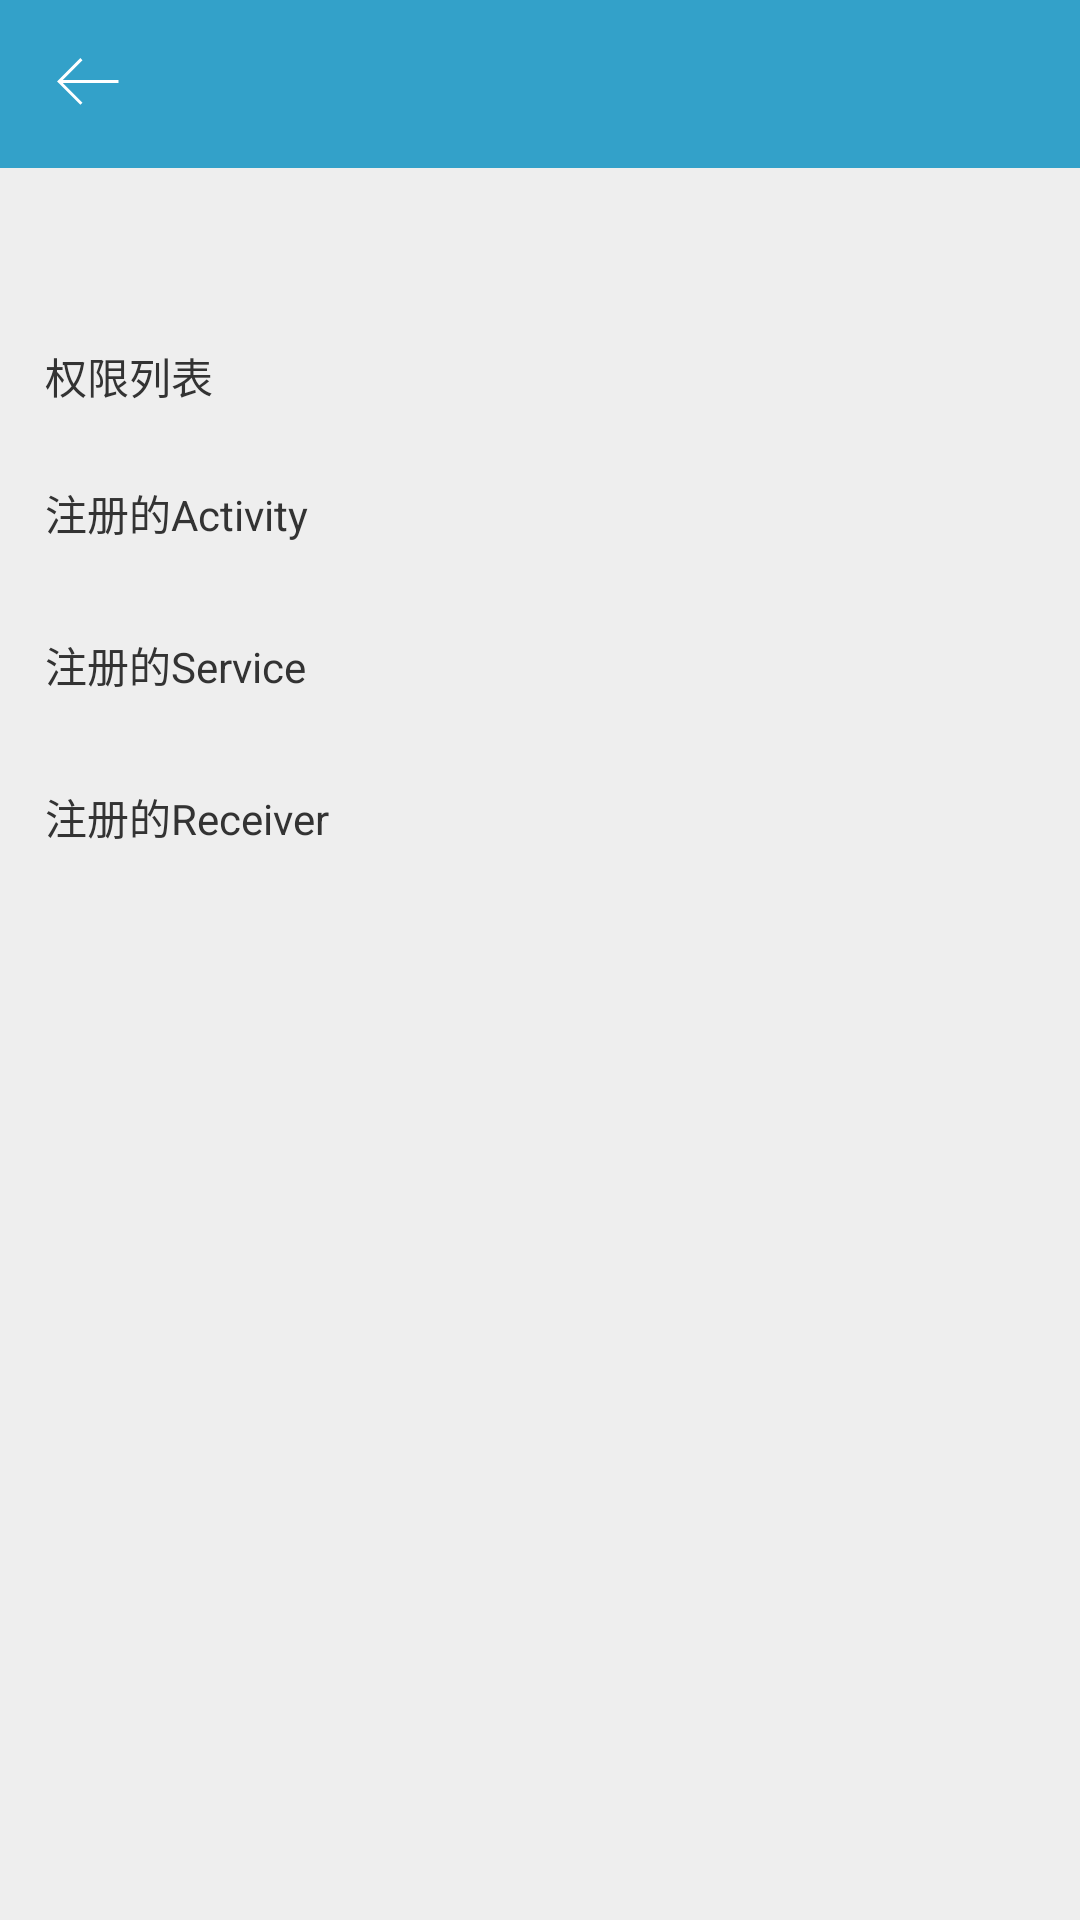

Icon click points for this 1080x1920 phone screenshot, format [x,y]:
back: [88,81]
